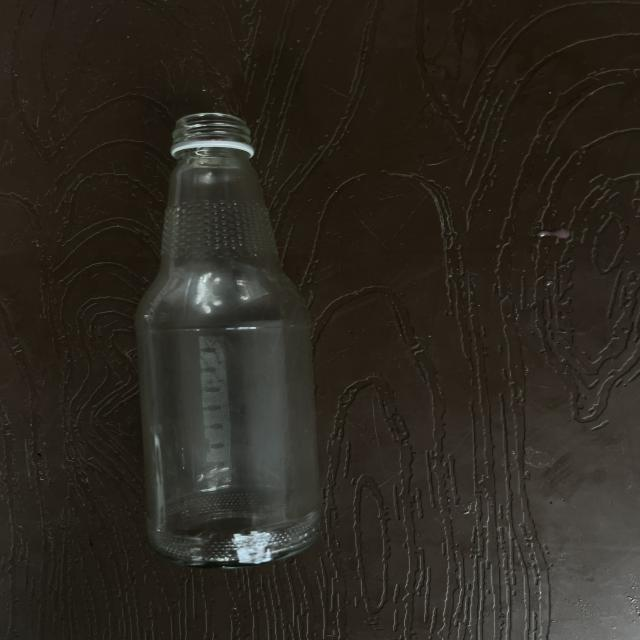Glass_Bottle: (136, 114, 319, 567)
